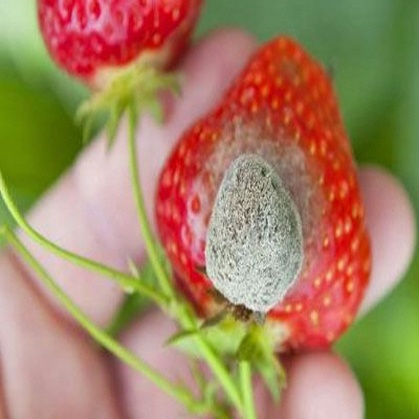Gray_Mold: (88, 92, 259, 305)
